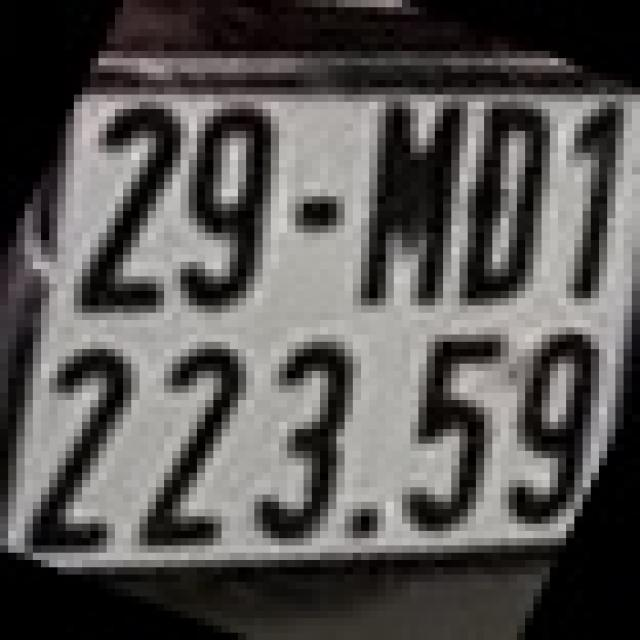1: (566, 102, 624, 298)
2: (25, 349, 123, 553), (139, 349, 238, 546), (82, 109, 172, 313)
3: (262, 342, 344, 538)
5: (410, 334, 492, 531)
9: (188, 109, 270, 306), (508, 334, 590, 524)
D: (468, 109, 542, 298)
M: (357, 91, 455, 309)
